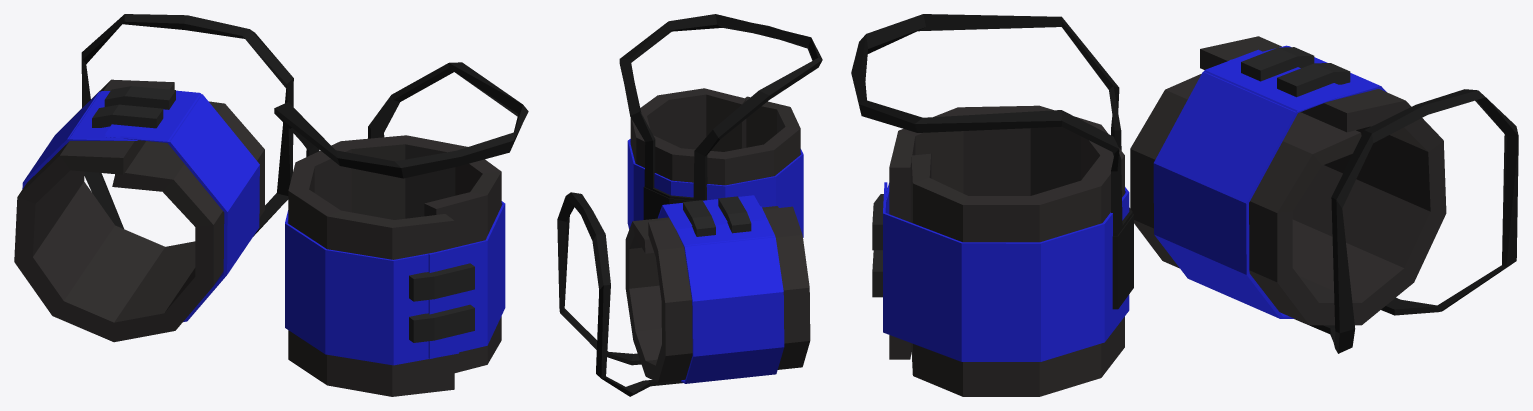
Rendered from Gravity Boots.glb.
3 renders of one model, left to right at view 1: azimuth 30°, elevation 25°; view 2: azimuth 150°, elevation 25°; view 3: azimuth 270°, elevation 25°, orthographic. The views are drawn at different scales.
Parts seen in each view (by area): view 1: Plastic Wrap; view 2: Plastic Wrap; view 3: Plastic Wrap.
Boxes of the visible parts, <box> form: Plastic Wrap: <box>14,14,528,396</box>; Plastic Wrap: <box>557,14,822,396</box>; Plastic Wrap: <box>851,14,1518,396</box>.
Bounding box in the file's own units: 0.8441 × 0.6329 × 1.25.
